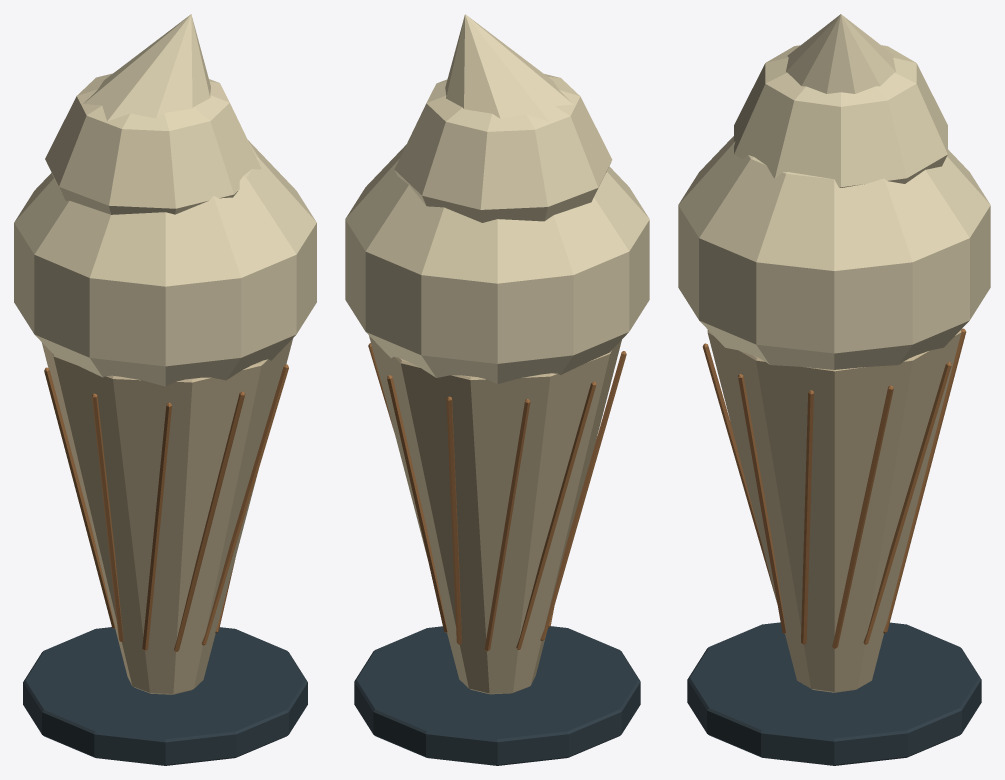
Rendered from b10_giant_ice_cream_cone_shop_sign.glb.
3 views of the same model, side by side, from view 1: azimuth 30°, elevation 25°; view 2: azimuth 150°, elevation 25°; view 3: azimuth 270°, elevation 25° (orthographic). The views are drawn at different scales.
Parts seen in each view (by area): view 1: b10_giant_ice_cream_cone_shop_sign; view 2: b10_giant_ice_cream_cone_shop_sign; view 3: b10_giant_ice_cream_cone_shop_sign.
Part boxes in pixels (x1,y1,x2,y2): b10_giant_ice_cream_cone_shop_sign: (14,14,316,765); b10_giant_ice_cream_cone_shop_sign: (345,14,649,765); b10_giant_ice_cream_cone_shop_sign: (678,14,990,765).
Bounding box in the file's own units: 0.7228 × 1.8 × 0.7228.
